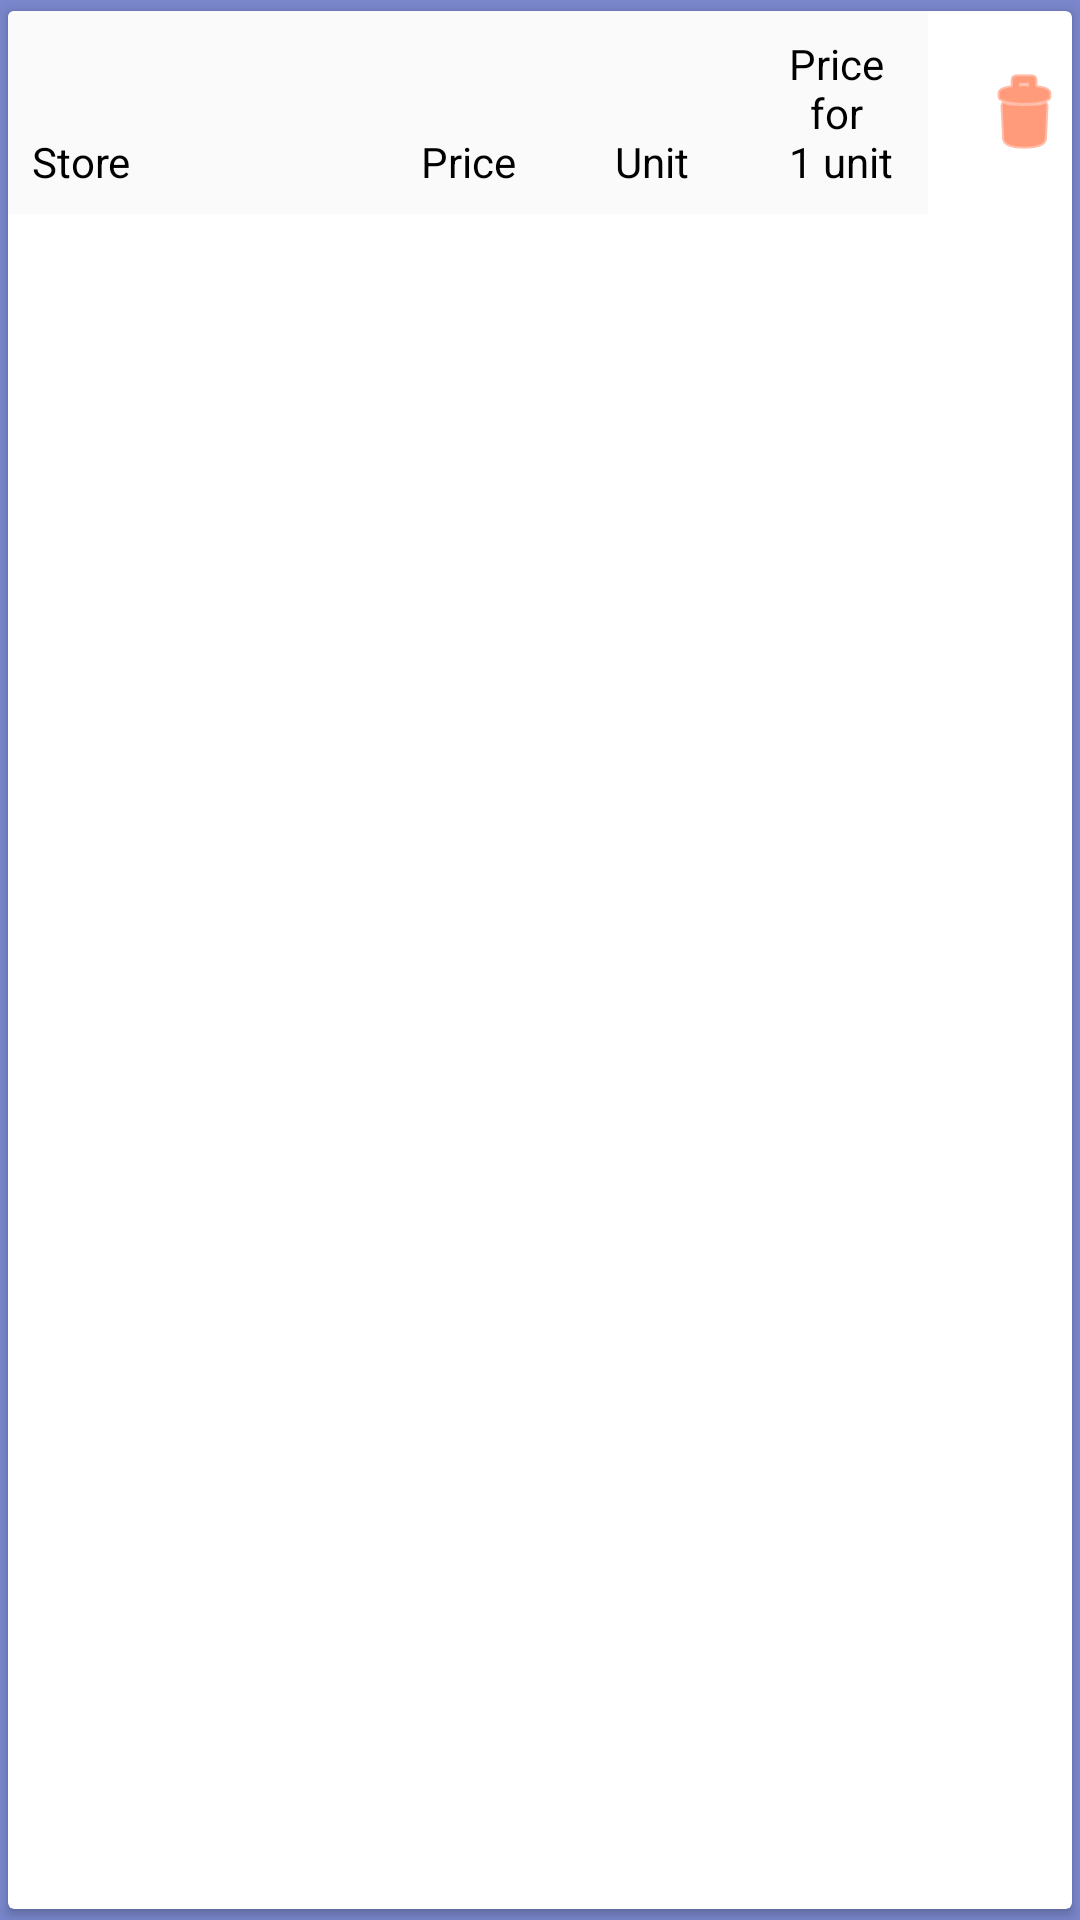

Icons on this 1080*1920 Android screen, each with the point to tap as (x=x, y=y):
delete: (x=1024, y=111)
